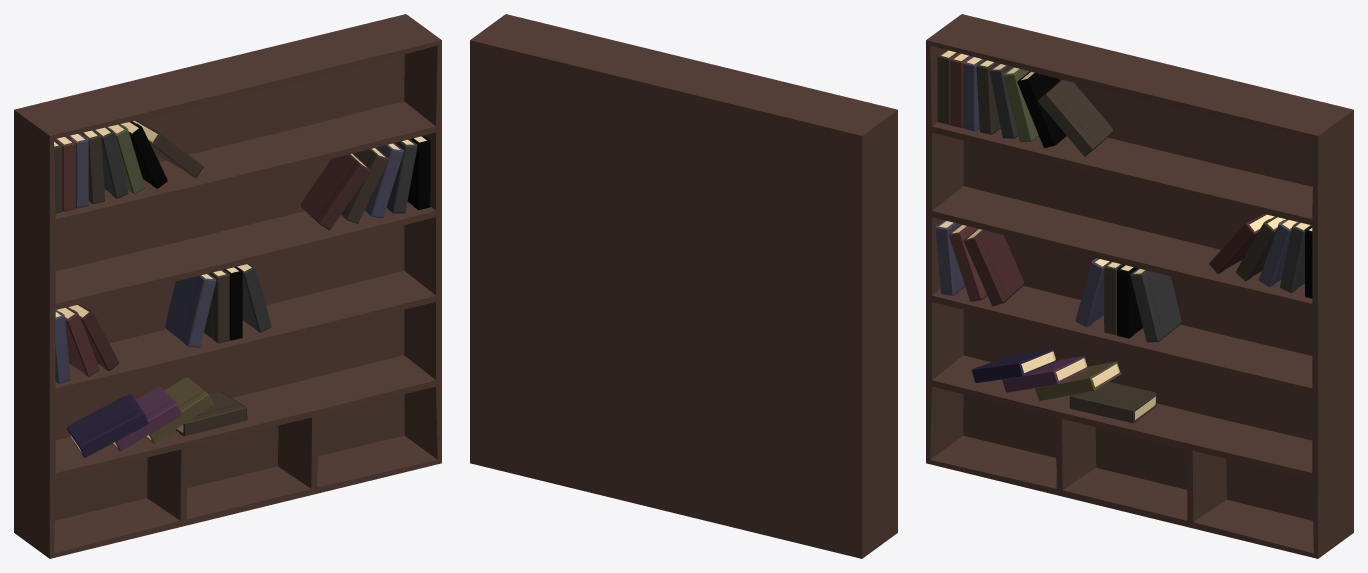
3 views of the same model, side by side, from view 1: azimuth 30°, elevation 25°; view 2: azimuth 150°, elevation 25°; view 3: azimuth 330°, elevation 25° (orthographic).
Visible parts, largest first — view 1: Cube.004_3, main book.002_14, blue.011_18, blue.001_5, main book.003_17, blue.010_15, blue.009_16, main book_2, blue.007_11, blue.002_7, blue.004_9, blue.006_12 (+13 smaller); view 2: Cube.004_3; view 3: Cube.004_3, blue.015_25, main book.001_6, blue.004_9, blue.009_16, blue.016_24, blue.011_18, blue.010_15, main book.003_17, blue_4, blue.003_8, blue.001_5 (+13 smaller).
Boxes of the visible parts, x1,y1,x2,y2 form: Cube.004_3: [14, 14, 441, 558]; main book.002_14: [300, 153, 371, 230]; blue.011_18: [67, 394, 148, 457]; blue.001_5: [165, 273, 216, 347]; main book.003_17: [112, 386, 182, 451]; blue.010_15: [145, 377, 213, 443]; blue.009_16: [175, 391, 247, 436]; main book_2: [57, 307, 99, 377]; blue.007_11: [341, 147, 388, 223]; blue.002_7: [204, 270, 229, 343]; blue.004_9: [236, 263, 271, 332]; blue.006_12: [407, 136, 430, 209]; Cube.004_3: [470, 14, 897, 558]; Cube.004_3: [926, 14, 1353, 558]; blue.015_25: [1037, 79, 1113, 156]; main book.001_6: [963, 228, 1024, 306]; blue.004_9: [1130, 268, 1181, 342]; blue.009_16: [1069, 381, 1157, 423]; blue.016_24: [1017, 71, 1066, 148]; blue.011_18: [971, 349, 1057, 382]; blue.010_15: [1034, 361, 1121, 400]; main book.003_17: [1002, 356, 1089, 392]; blue_4: [935, 220, 965, 296]; blue.003_8: [1117, 264, 1142, 338]; blue.001_5: [1075, 258, 1110, 327].
Bounding box in the file's own units: 1.42 × 1.47 × 0.2318.
